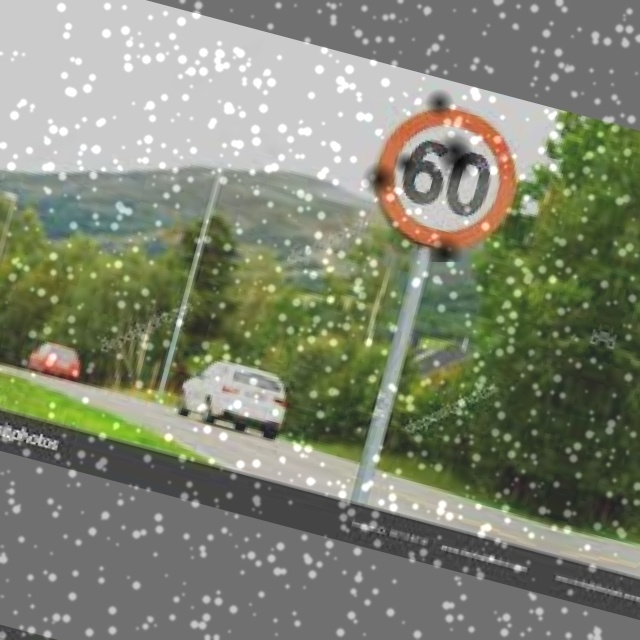Speed_Limit_60: (360, 88, 532, 262)
